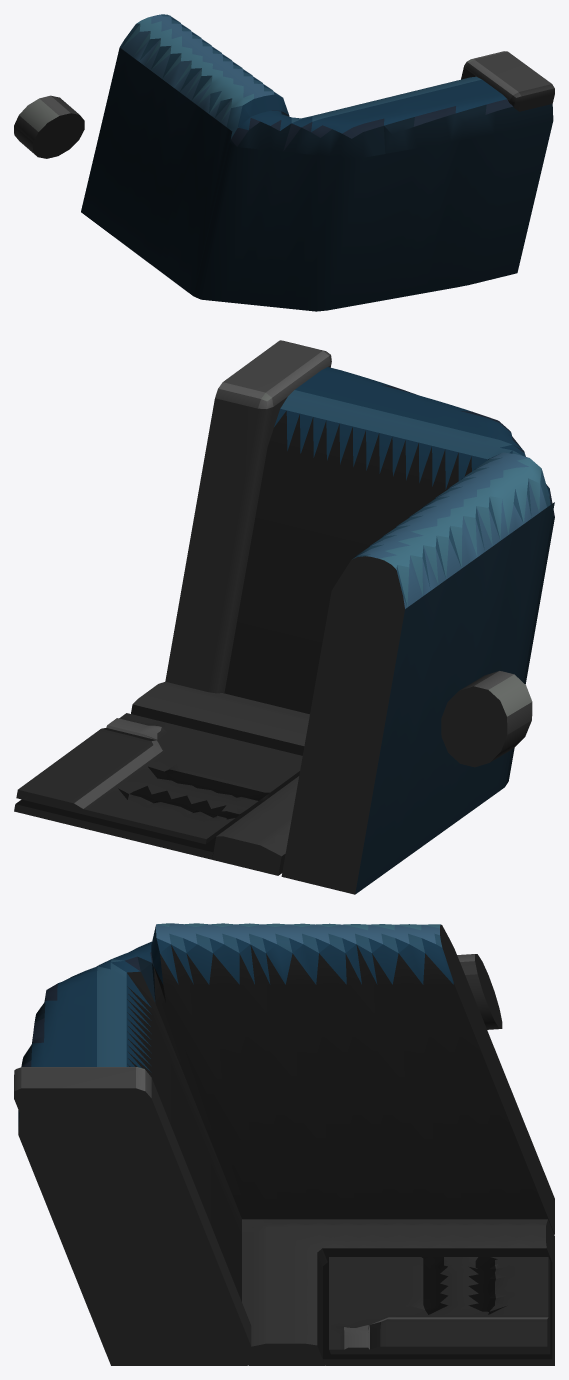
The model's file is fleet_walker_120.glb.
3 renders of one model, top to bottom at view 1: azimuth 30°, elevation 25°; view 2: azimuth 150°, elevation 25°; view 3: azimuth 270°, elevation 25°, orthographic. The views are drawn at different scales.
Visible parts, largest first — view 1: fleet_walker_120; view 2: fleet_walker_120; view 3: fleet_walker_120.
Boxes of the visible parts, x1,y1,x2,y2 form: fleet_walker_120: (14,14,554,311); fleet_walker_120: (14,340,554,894); fleet_walker_120: (14,923,554,1365).
Size of the model in its own units: 20.9 by 12.4 by 21.2.
